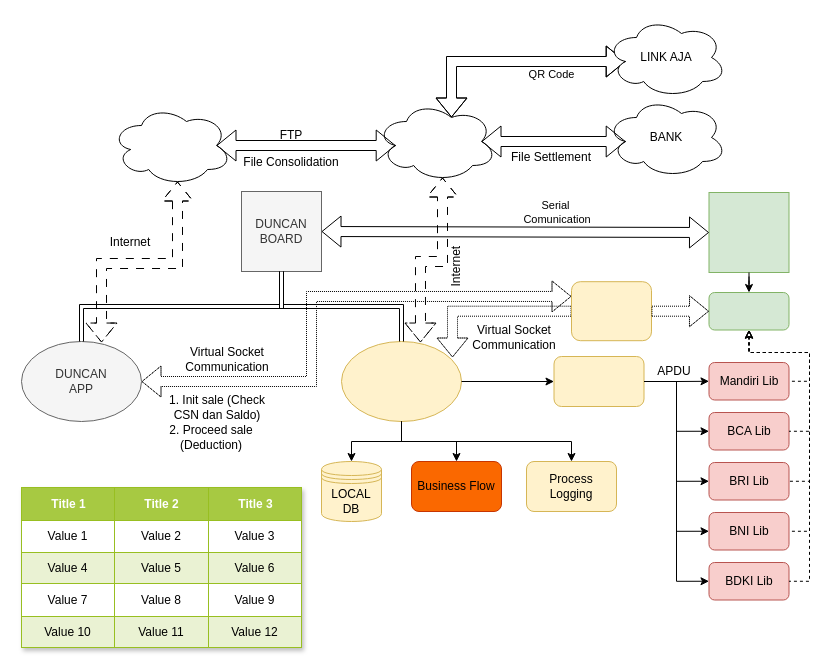
This 835x672 diagram has some shape labels left out. Each missing label, with the centre of its shape:
"AINO APP" belongs at (x=401, y=381).
"AINO BACK OFFICE (SVD)" belongs at (x=436, y=141).
"Aino Payment Module" belongs at (x=598, y=381).
"COHERENT BOARD" belongs at (x=748, y=232).
"Coherent Reader Lib" belongs at (x=748, y=311).
"DUNCAN BACK OFFICE" belongs at (x=171, y=145).
"ECPI Wrapper" belongs at (x=611, y=311).
